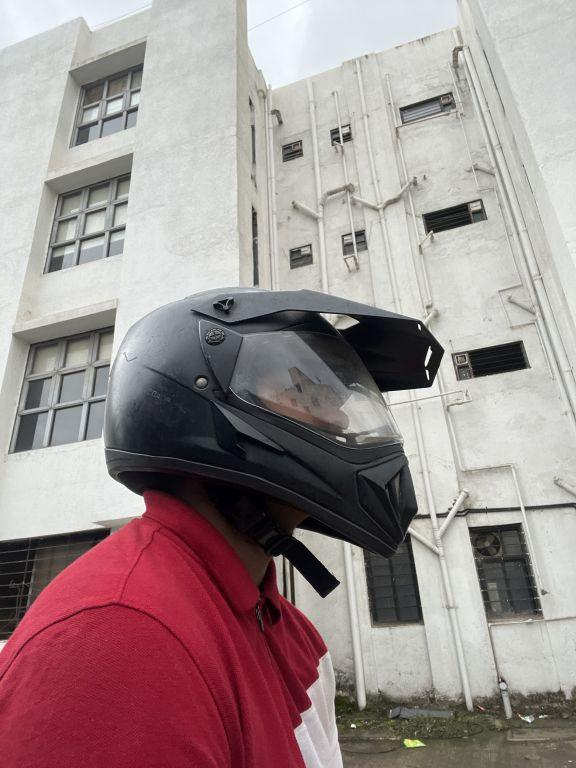helmet: (84, 265, 453, 574)
